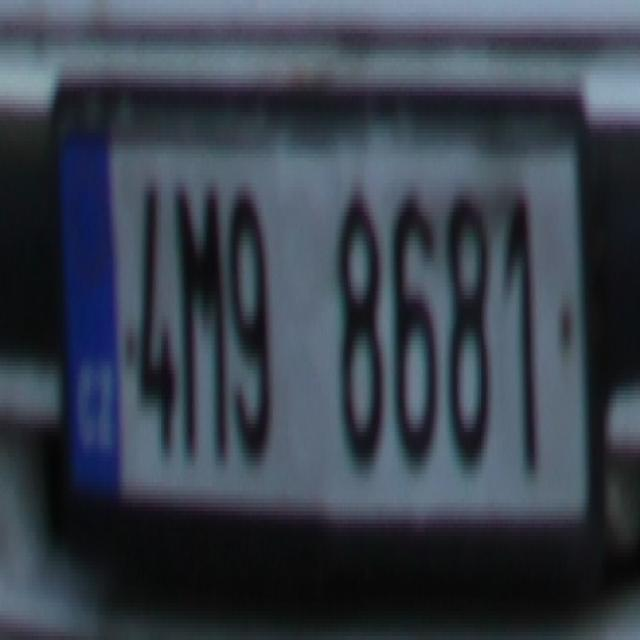1: (500, 178, 542, 482)
4: (136, 183, 176, 462)
6: (388, 200, 438, 466)
8: (336, 191, 389, 461), (448, 187, 492, 457)
9: (230, 186, 272, 462)
M: (174, 187, 228, 478)
